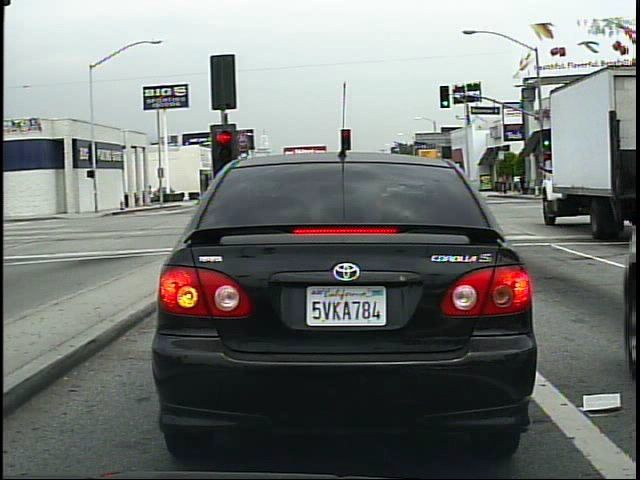person: (518, 170, 528, 196), (150, 181, 151, 210)
